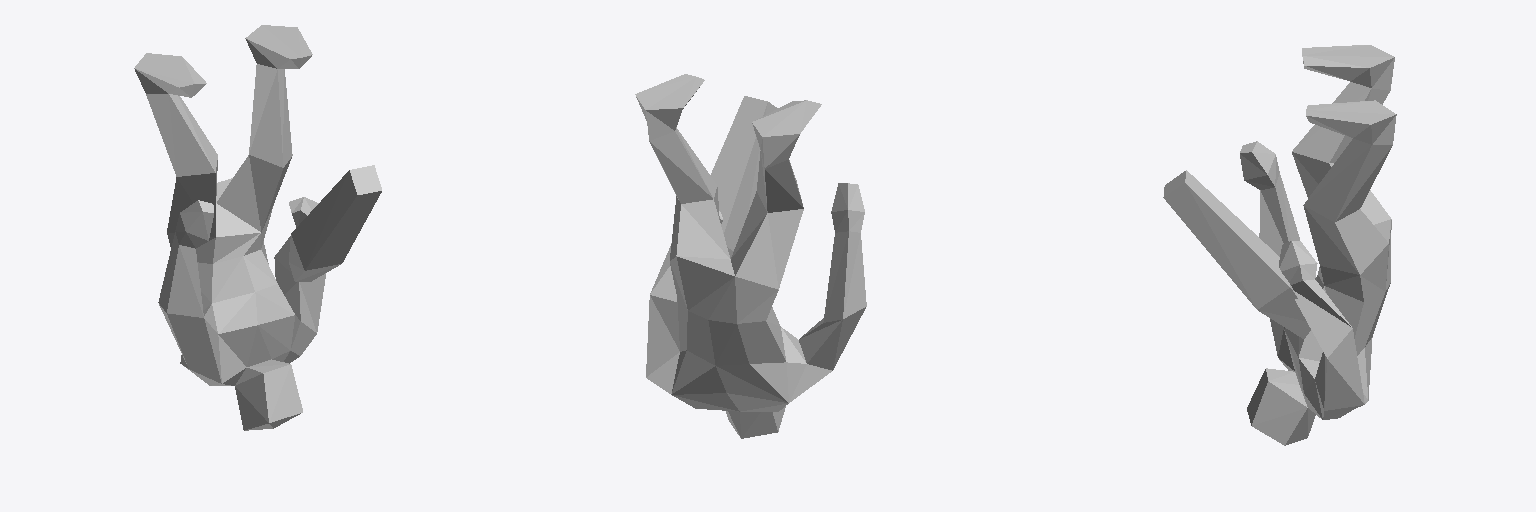
The model's file is Soldier_000002.obj.
3 views of the same model, side by side, from view 1: azimuth 30°, elevation 25°; view 2: azimuth 150°, elevation 25°; view 3: azimuth 270°, elevation 25° (orthographic).
Parts seen in each view (by area): view 1: soldier_rfoot_mesh0.004; view 2: soldier_rfoot_mesh0.004; view 3: soldier_rfoot_mesh0.004.
Part boxes in pixels (x1,y1,x2,y2): soldier_rfoot_mesh0.004: (134,25,381,430); soldier_rfoot_mesh0.004: (635,74,866,438); soldier_rfoot_mesh0.004: (1163,45,1396,445).
Size of the model in its own units: 13.57 by 24.27 by 14.57.